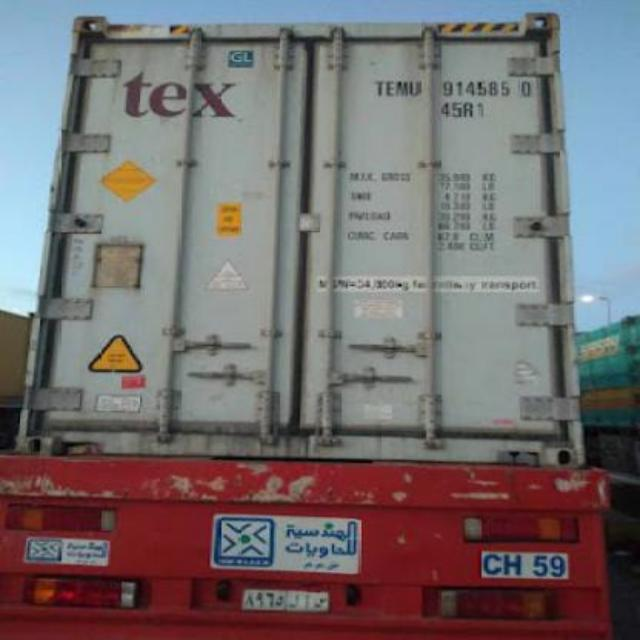0: (520, 79, 532, 99)
1: (456, 80, 464, 96)
4: (464, 79, 478, 97)
5: (500, 81, 512, 97), (478, 78, 488, 96)
8: (488, 79, 500, 97)
9: (442, 80, 454, 96)
E: (386, 80, 396, 98)
M: (396, 82, 409, 95)
T: (373, 80, 385, 98)
U: (410, 81, 422, 97)
